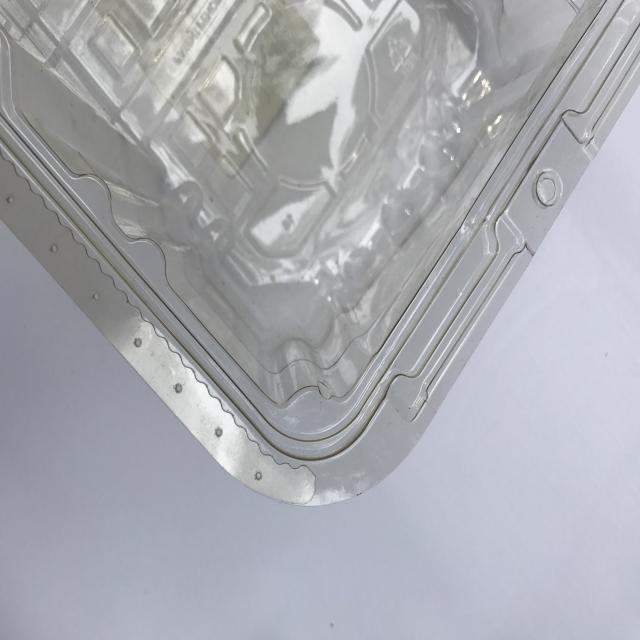plastic: (1, 1, 640, 507)
